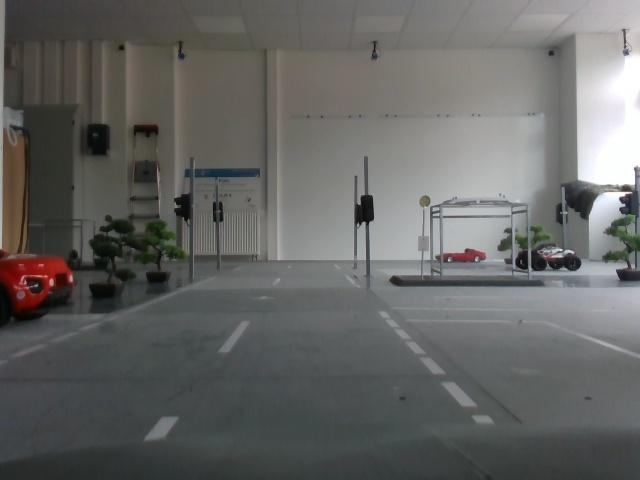car: (1, 240, 85, 328), (523, 244, 588, 274), (439, 239, 490, 267)
potted plant: (94, 225, 130, 306), (149, 218, 180, 288), (612, 219, 640, 277)
traffic light: (174, 185, 205, 230), (358, 194, 380, 224)
